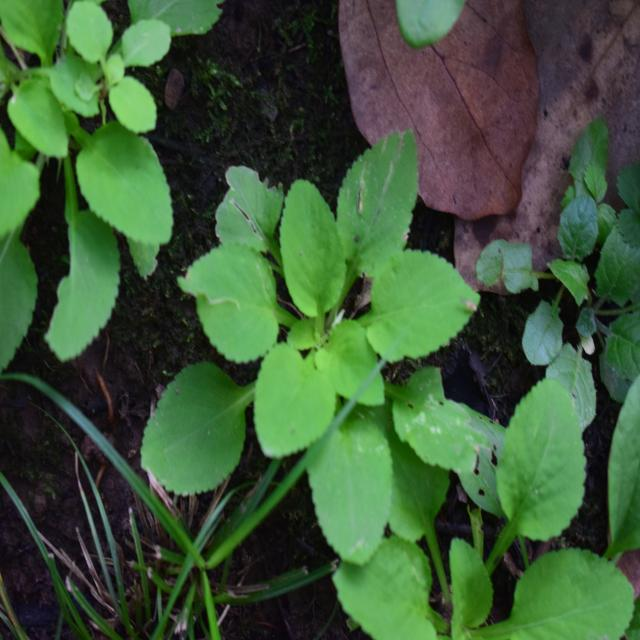Viola: (152, 123, 485, 582), (0, 5, 213, 311)
